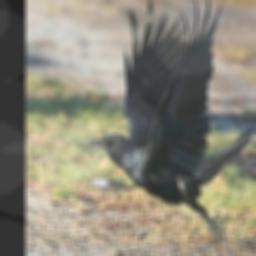Crow: (86, 0, 256, 246)
